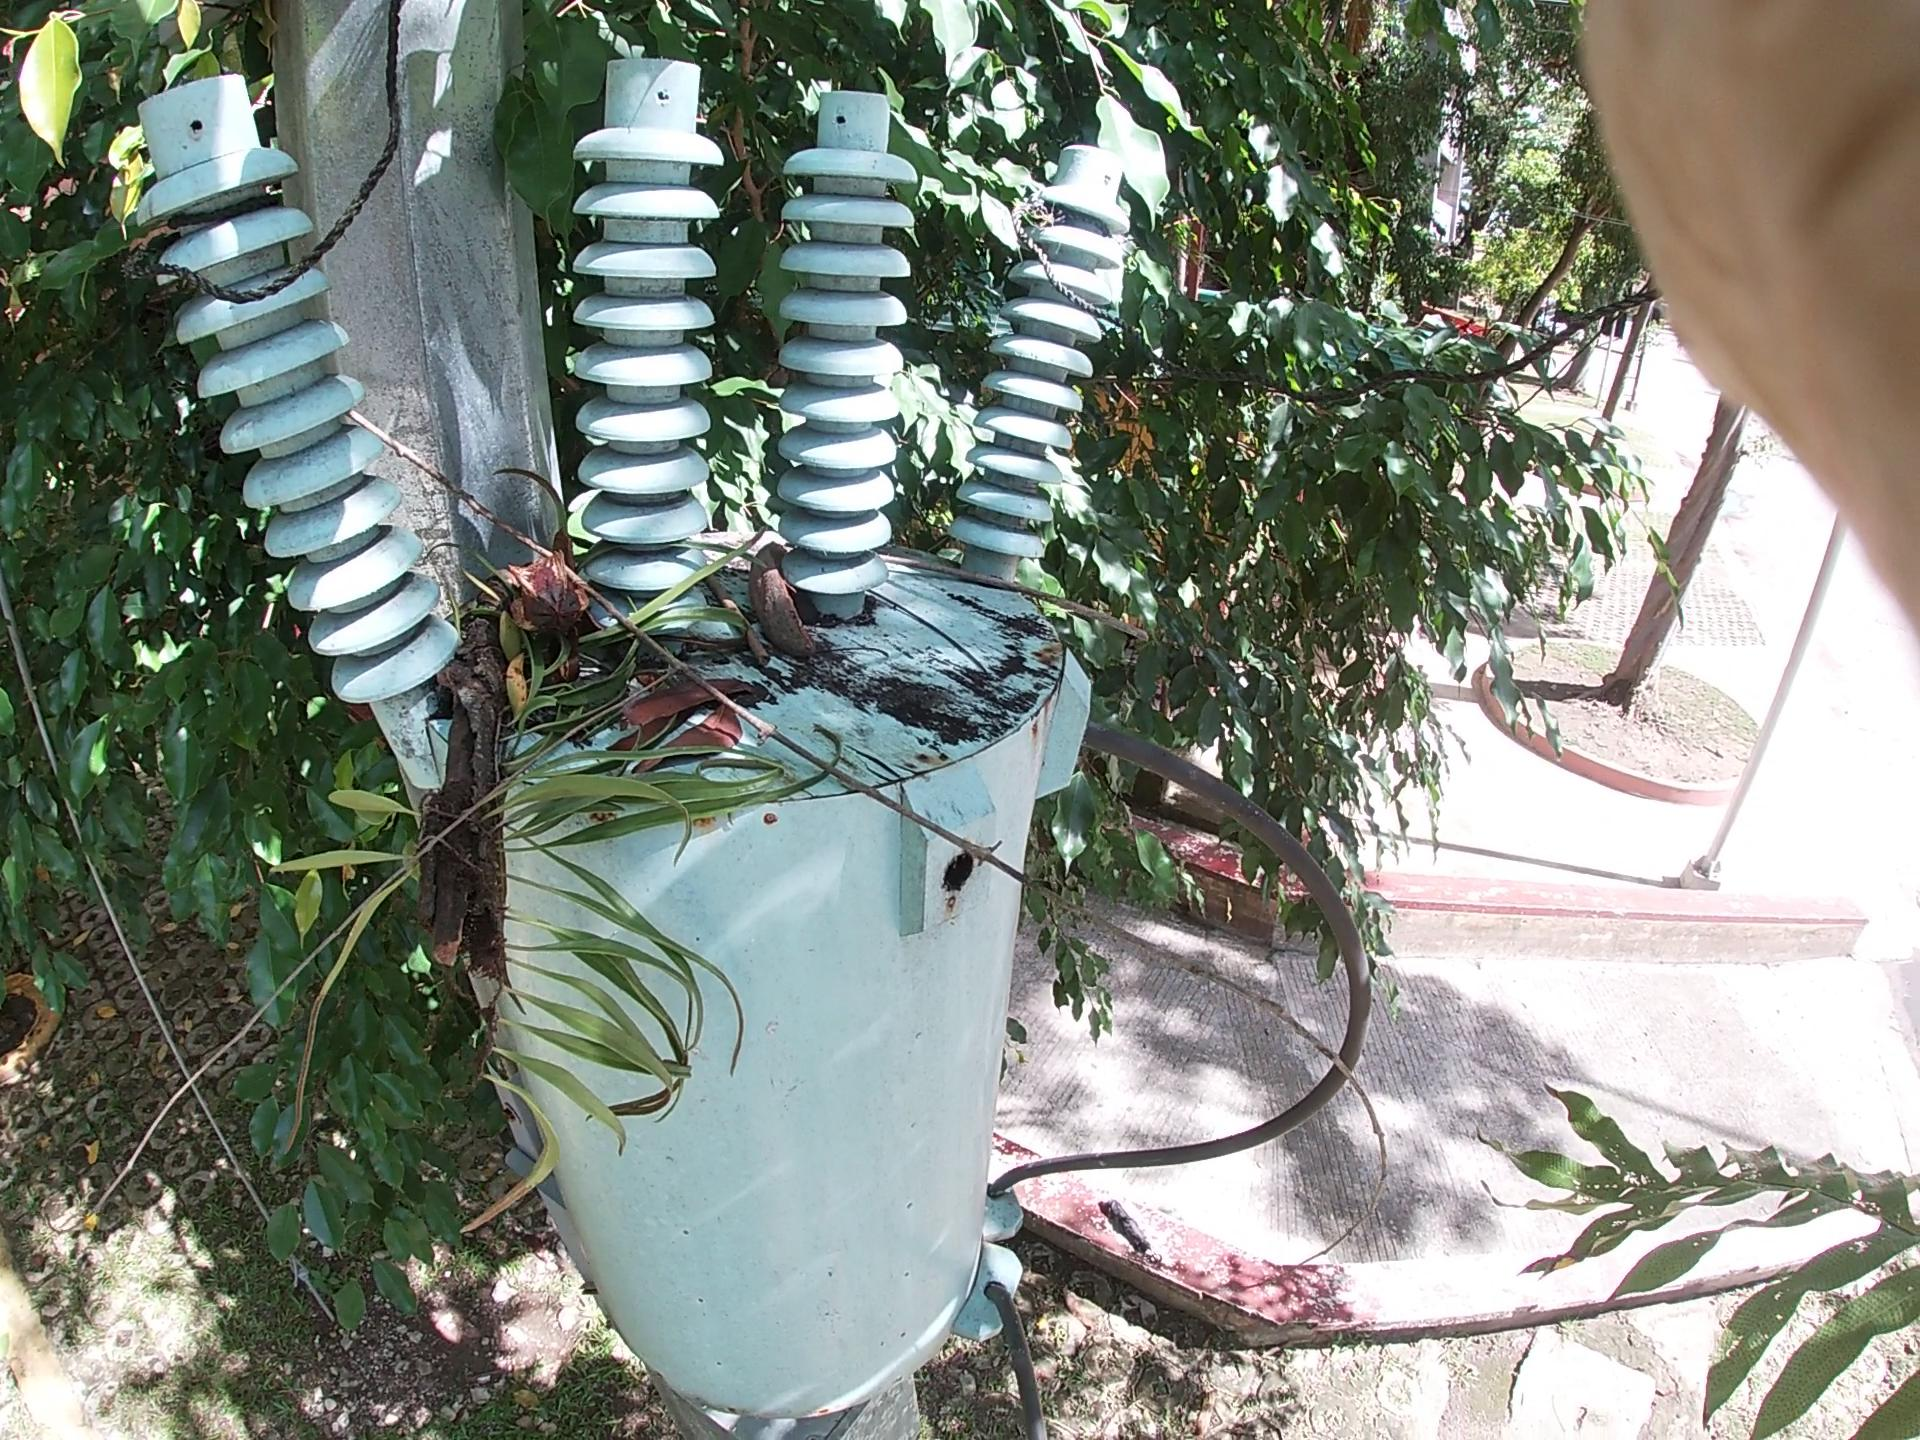branch with leaves: (425, 380, 614, 1189)
leaf: (330, 2, 1234, 331)
mahogany fruit: (717, 520, 825, 681), (500, 540, 624, 629)
tree branch: (361, 413, 1302, 1053), (881, 531, 1342, 711), (683, 520, 810, 711)
